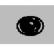correct: (13, 12, 46, 39)
